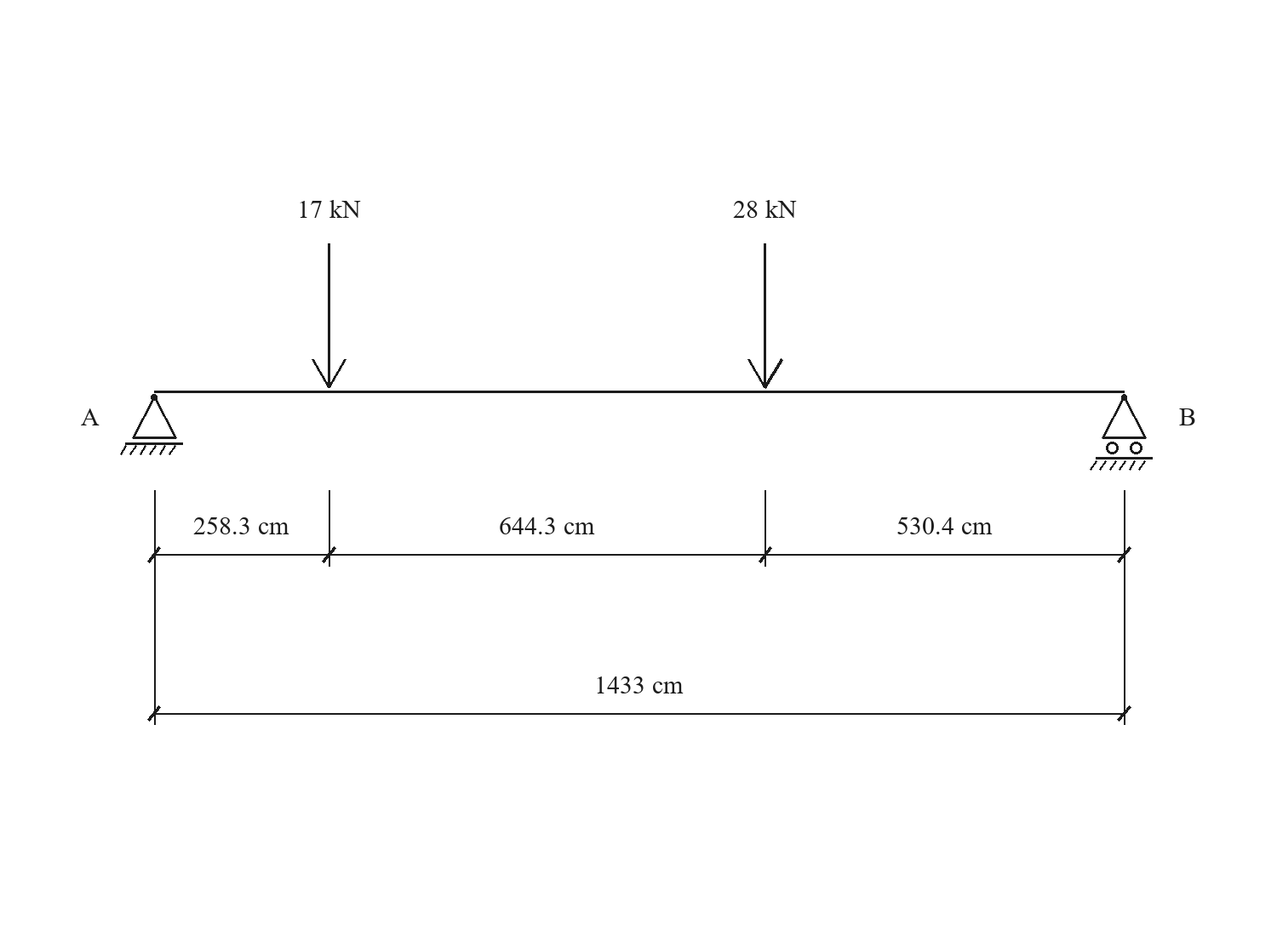pin_support: (120, 394, 183, 455)
point_load: (747, 243, 783, 389), (312, 243, 346, 388)
roller_support: (1090, 394, 1153, 471)
